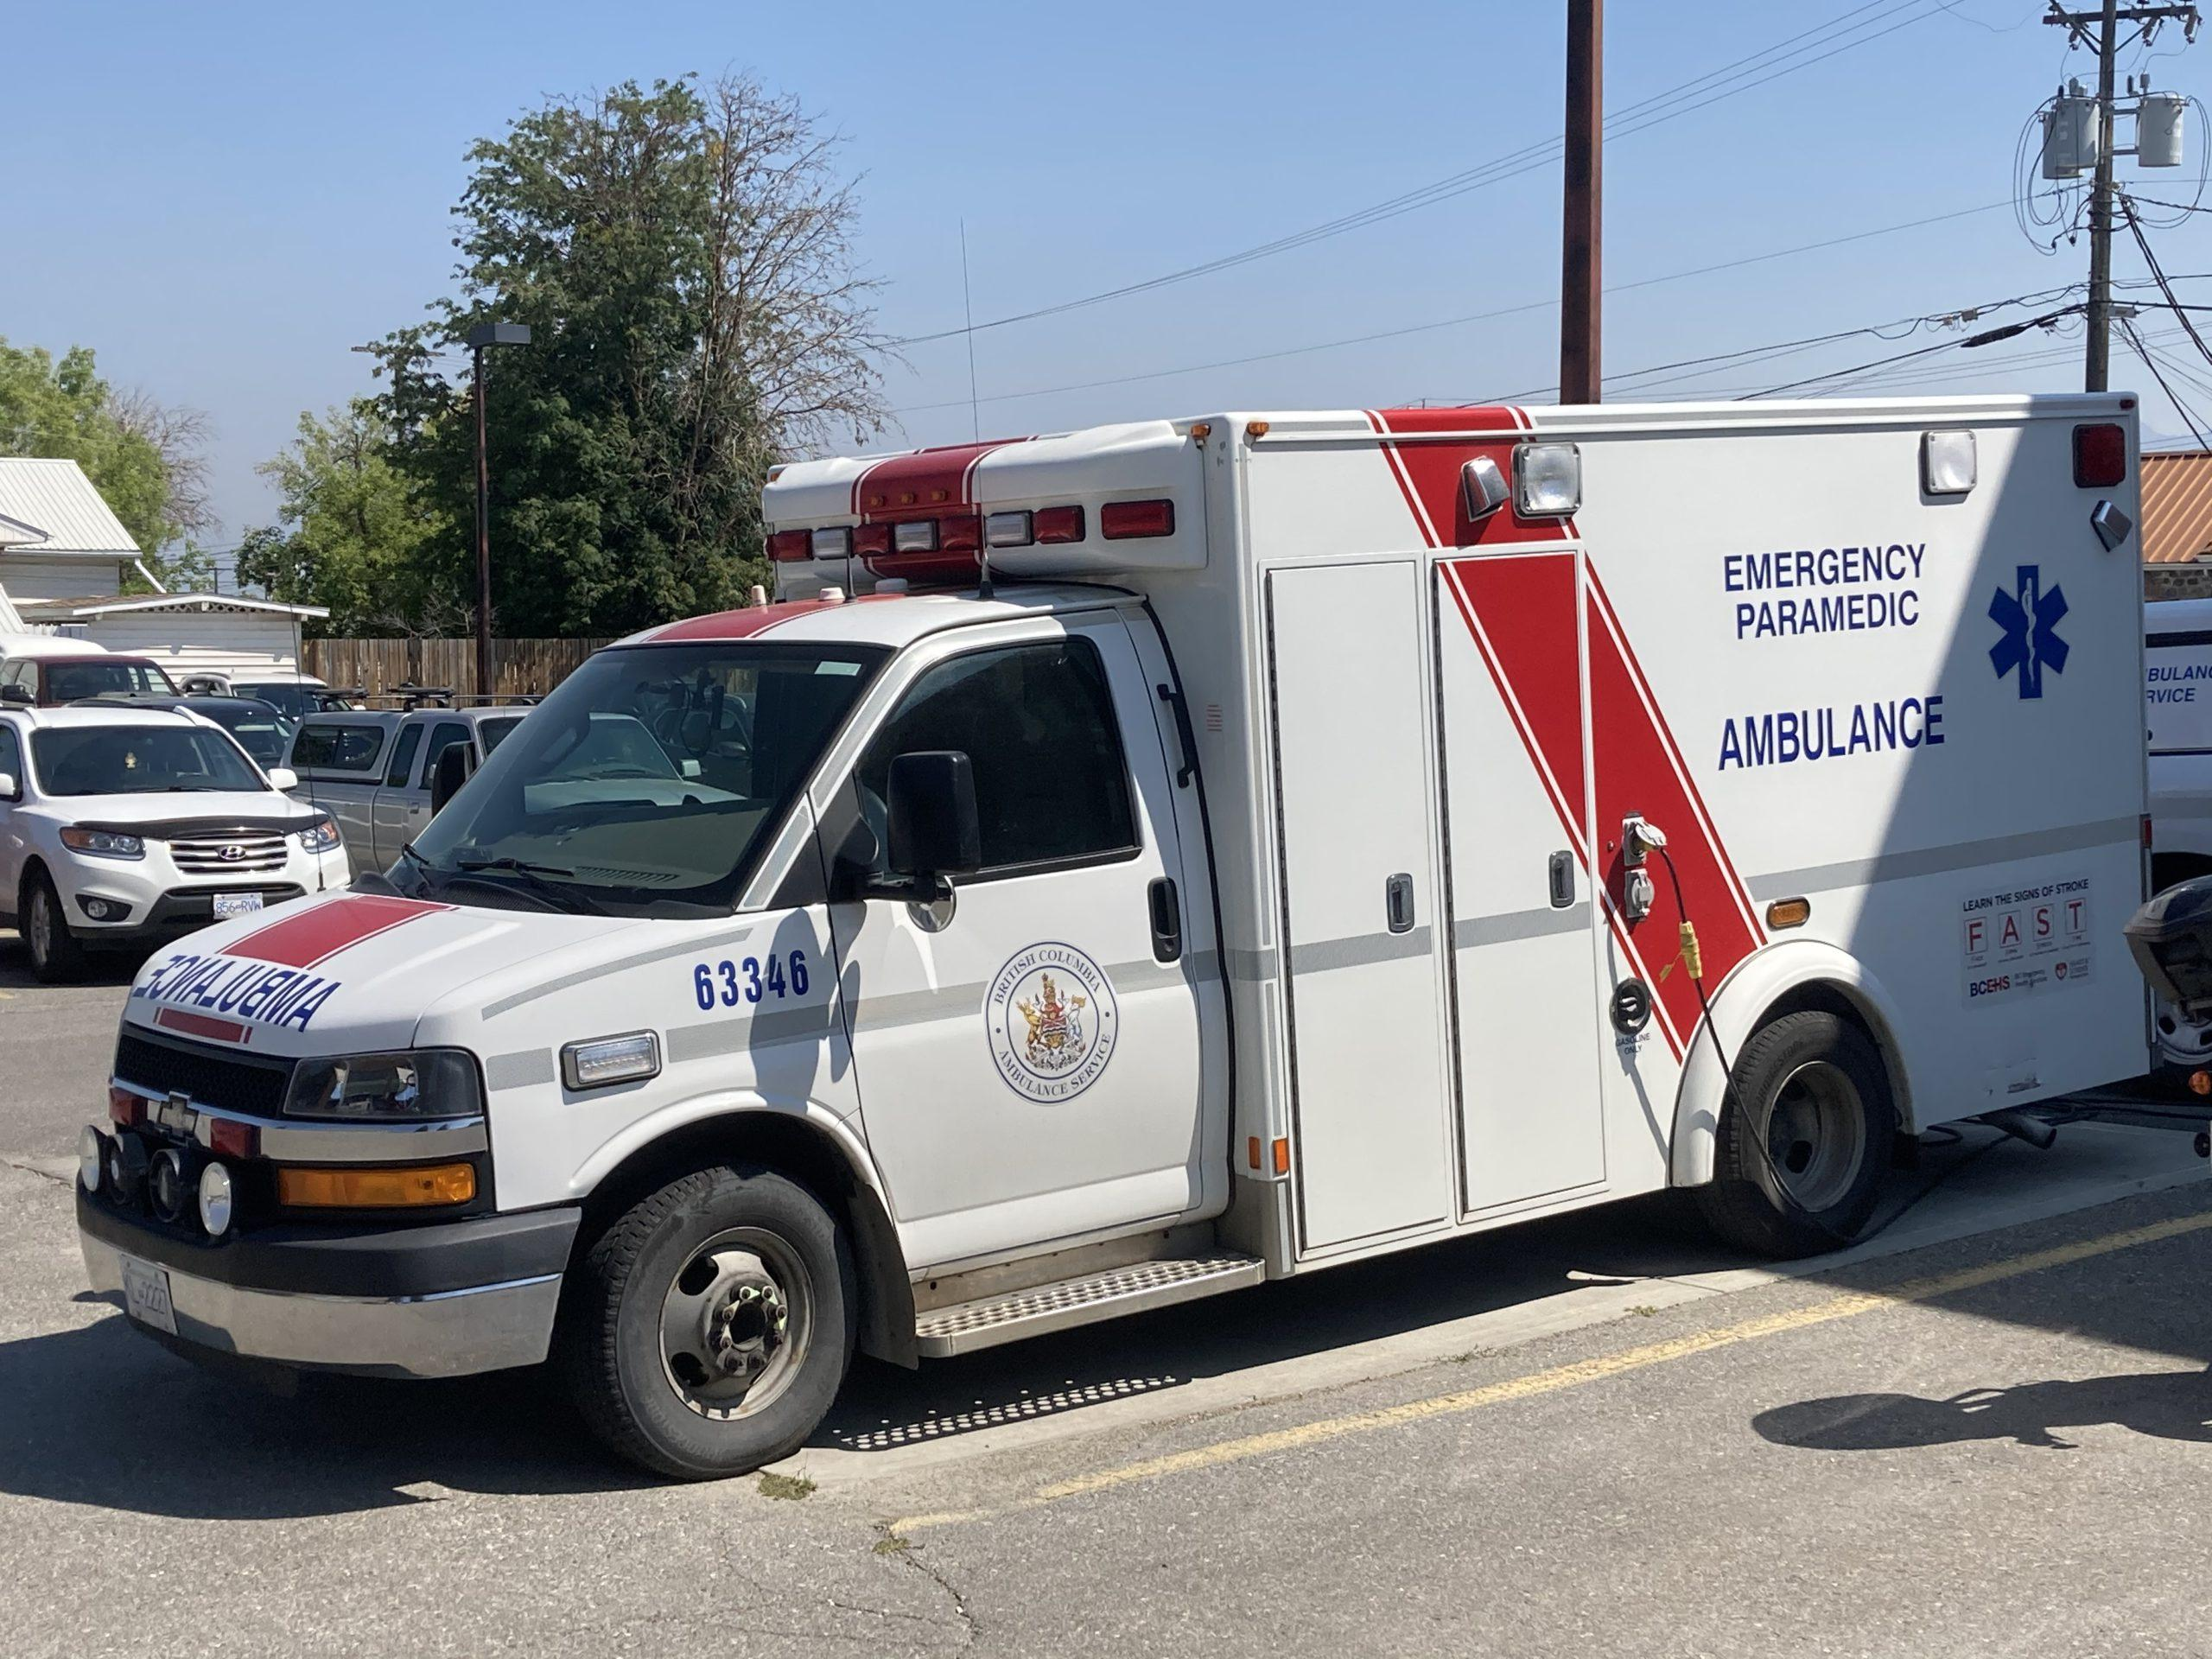ambulance_off: (78, 387, 2151, 1474)
